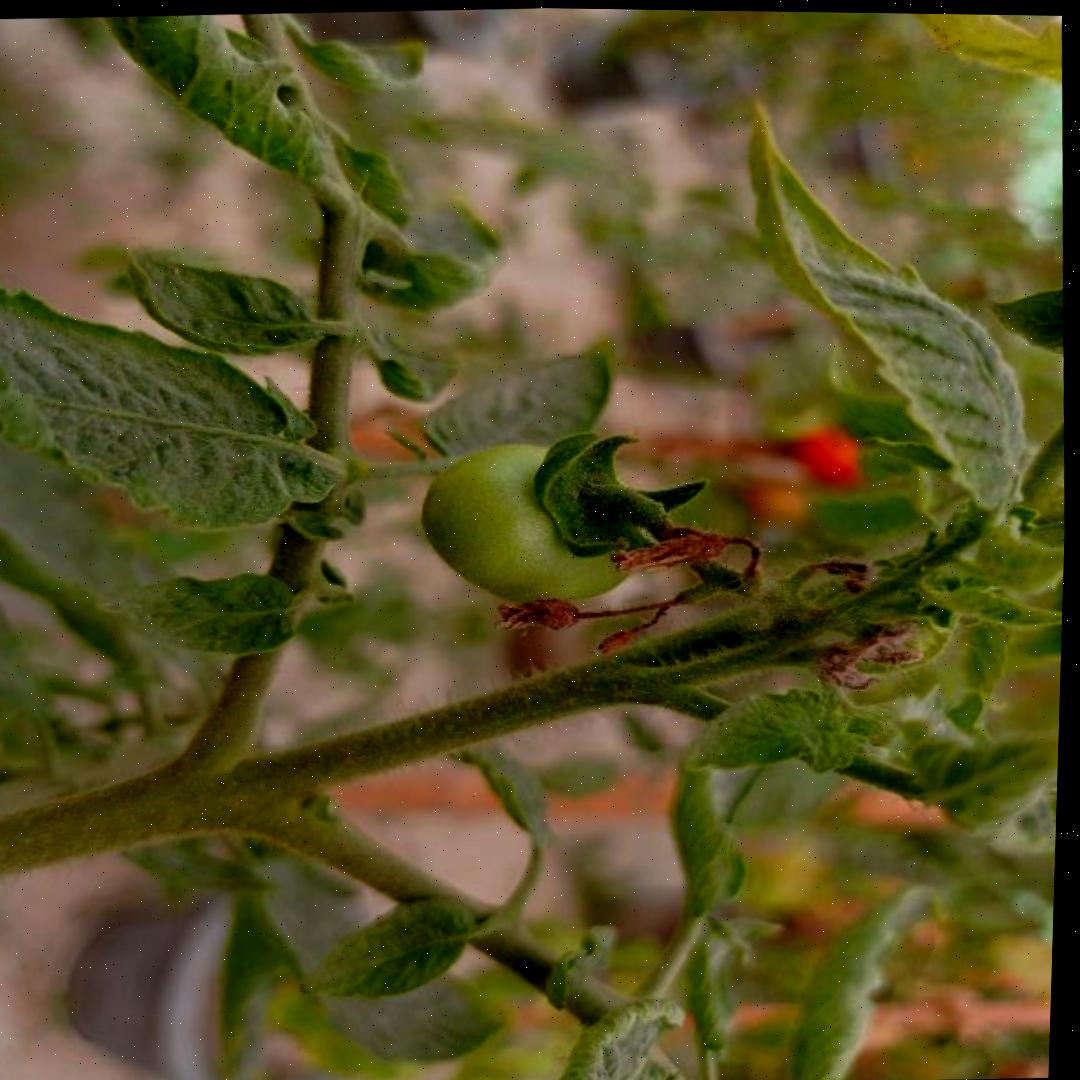mentah: (412, 435, 647, 612)
